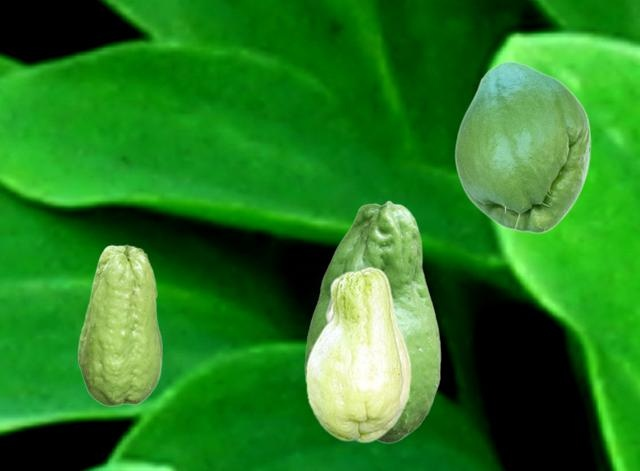sayote: (304, 200, 440, 442), (454, 61, 590, 233), (305, 266, 410, 442), (77, 244, 162, 406)
